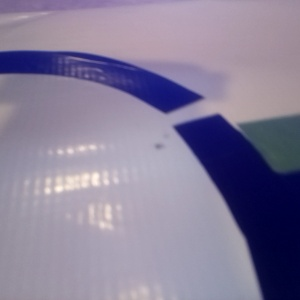bottom_left: (32, 1, 105, 32)
bottom_right: (78, 1, 156, 28)
top_right: (15, 104, 137, 184)
